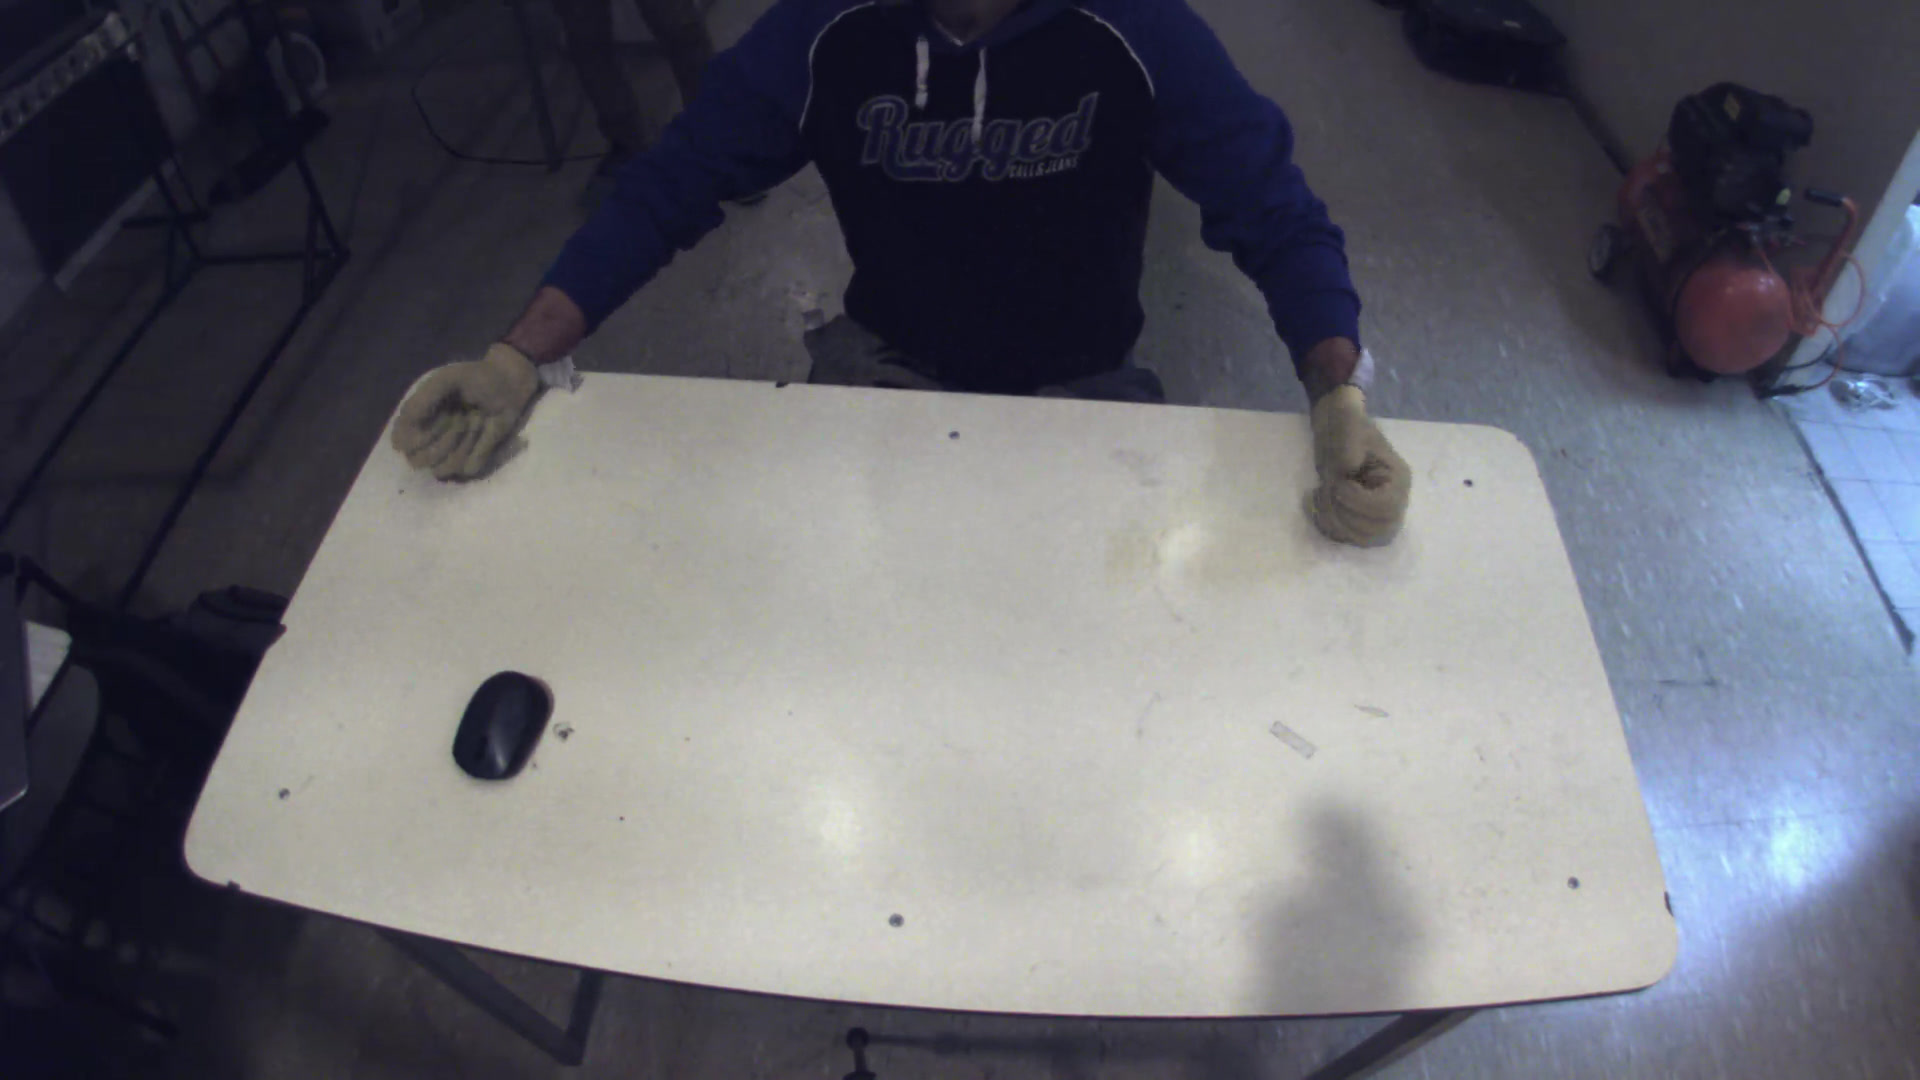hand: (378, 330, 553, 484), (1294, 375, 1424, 556)
